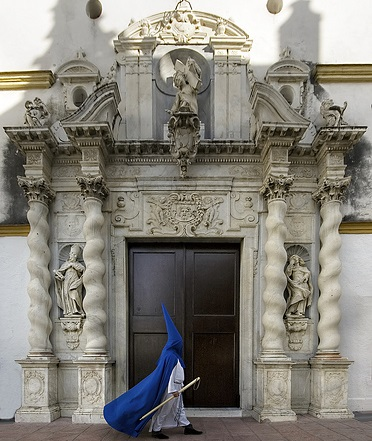columna-salomonica: (79, 193, 111, 357), (23, 197, 55, 358), (260, 195, 291, 359), (316, 196, 344, 355)
fronton-curvo: (54, 57, 102, 76), (265, 59, 311, 76)
fronton-partido: (64, 78, 315, 154), (113, 8, 251, 48)
vano-adintelado: (111, 220, 258, 414)
